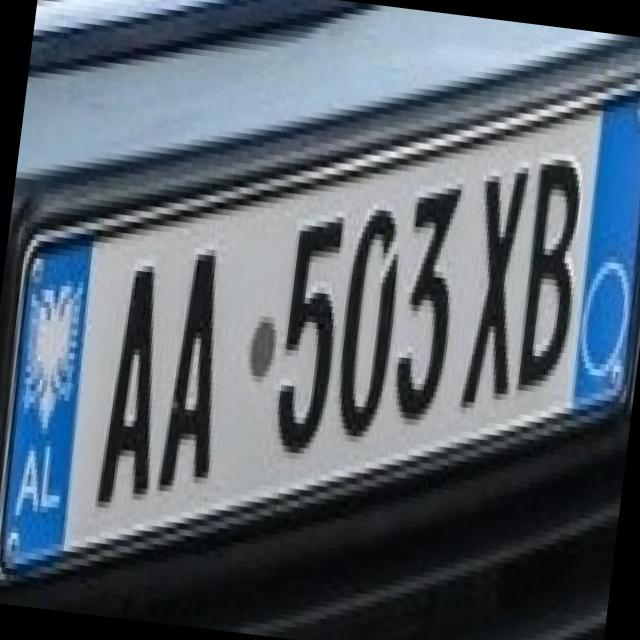0: (319, 182, 412, 439)
5: (262, 194, 358, 456), (376, 165, 473, 422)
A: (79, 238, 181, 508), (147, 228, 245, 490)
B: (502, 138, 596, 390)
X: (446, 144, 542, 406)
